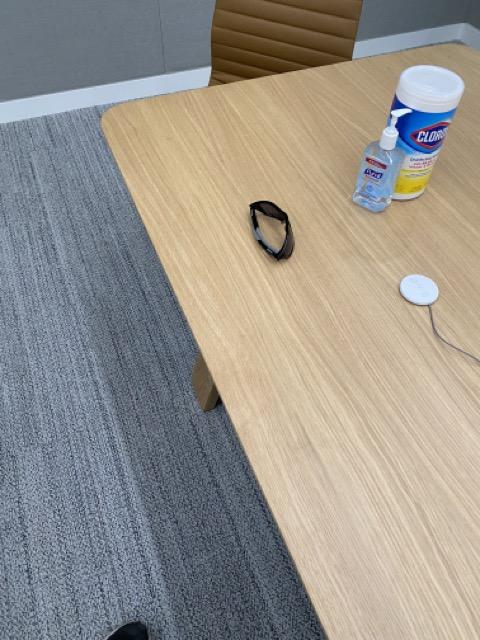Sunglasses: (246, 199, 297, 263)
